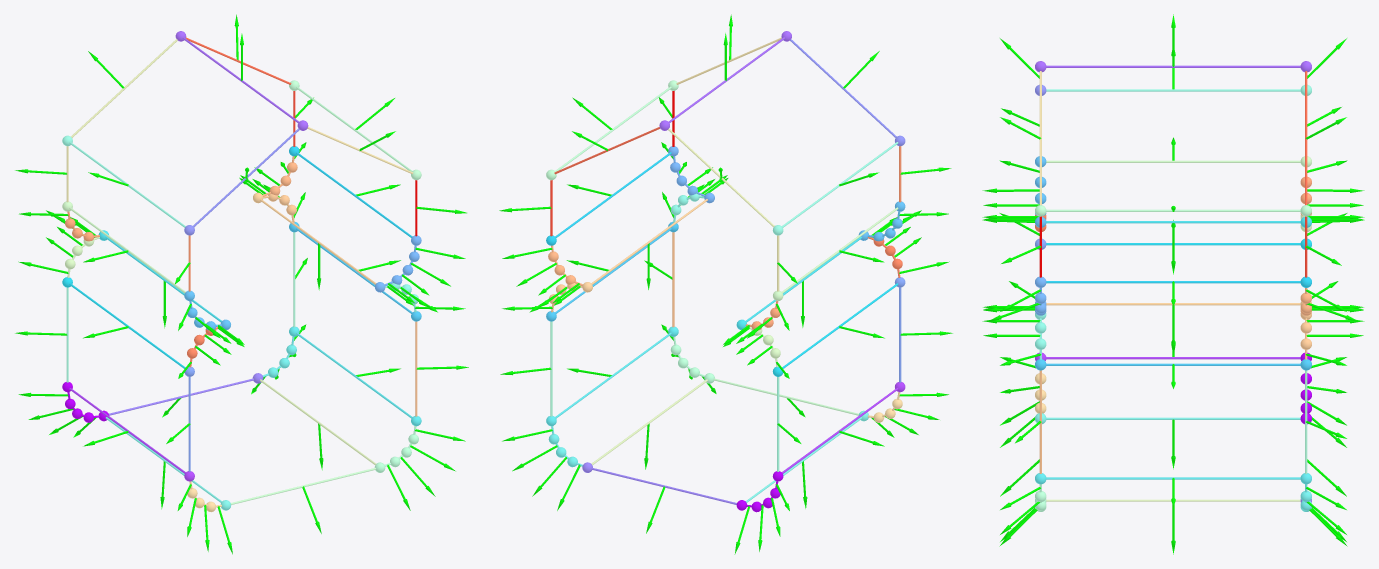
File: onshape_house.gltf
The picture shows the model from 3 angles, left to right: view 1: azimuth 30°, elevation 25°; view 2: azimuth 150°, elevation 25°; view 3: azimuth 270°, elevation 25°; orthographic projection. The views are drawn at different scales.
Size of the model in its own units: 0.6889 by 0.9435 by 0.6558.
